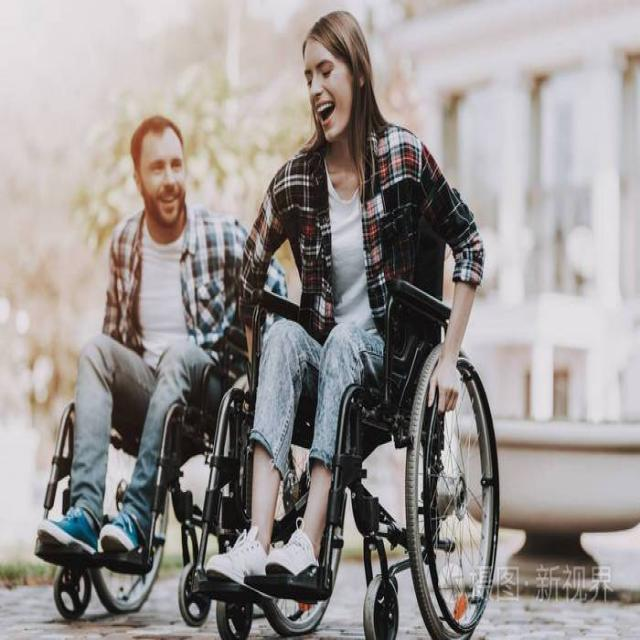wheelchairs: (191, 203, 517, 640), (23, 237, 273, 625)
